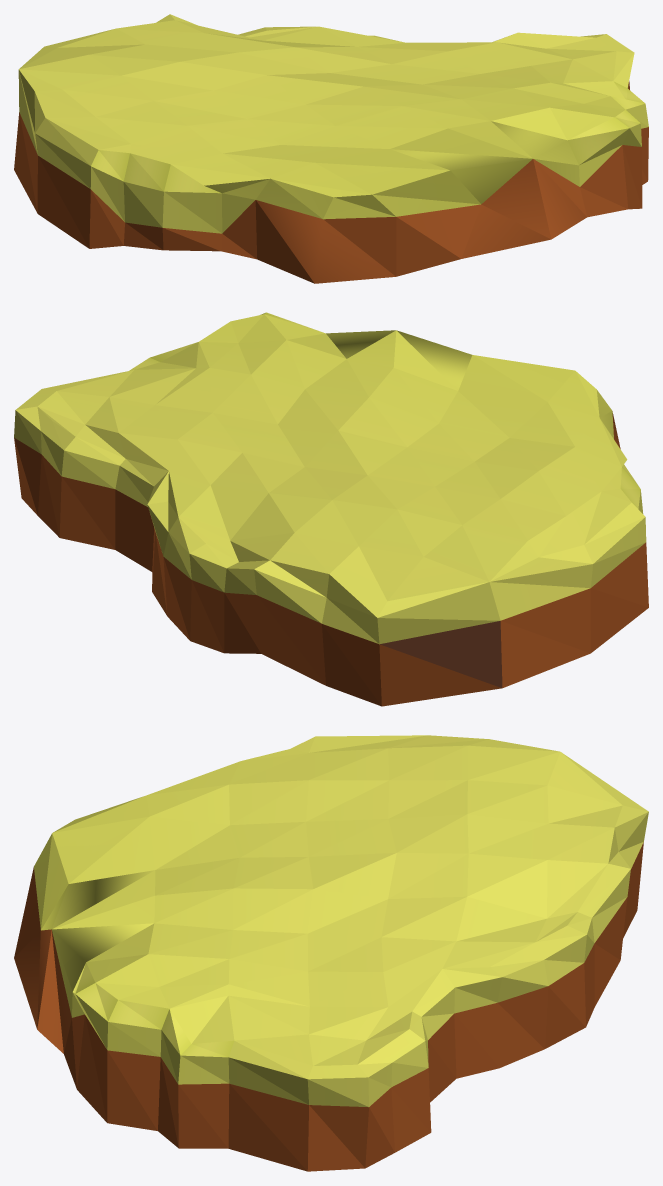
The model's file is country.glb.
The picture shows the model from 3 angles, top to bottom: view 1: azimuth 30°, elevation 25°; view 2: azimuth 150°, elevation 25°; view 3: azimuth 270°, elevation 25°; orthographic projection. The views are drawn at different scales.
Parts seen in each view (by area): view 1: Country; view 2: Country; view 3: Country.
Boxes of the visible parts, x1,y1,x2,y2 form: Country: (14, 14, 648, 283); Country: (14, 312, 648, 706); Country: (14, 735, 648, 1171).
Size of the model in its own units: 2.61 by 0.5249 by 2.22.
Materials: 2 (1 with a texture image).
